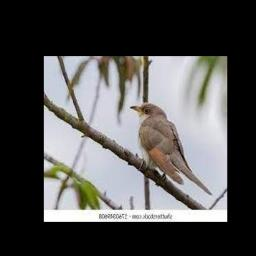Cuckoo: (130, 103, 213, 196)
